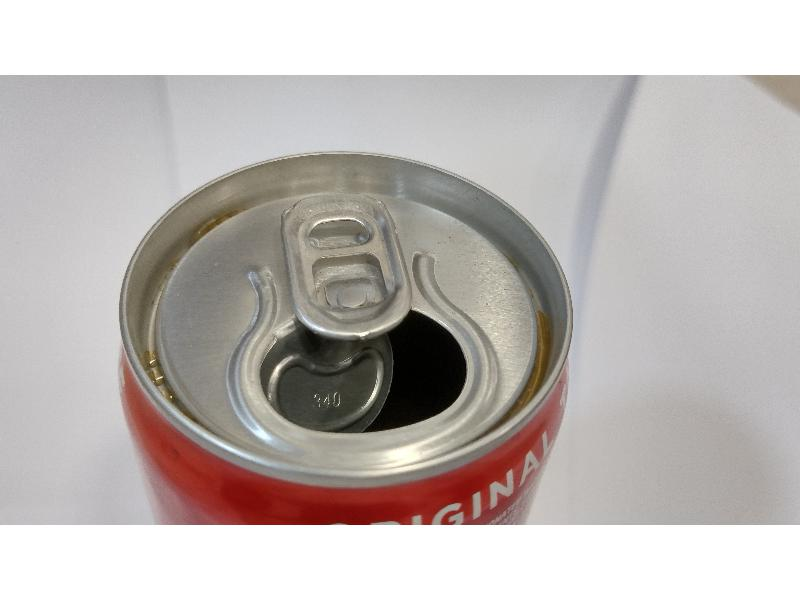can: (109, 139, 580, 519)
